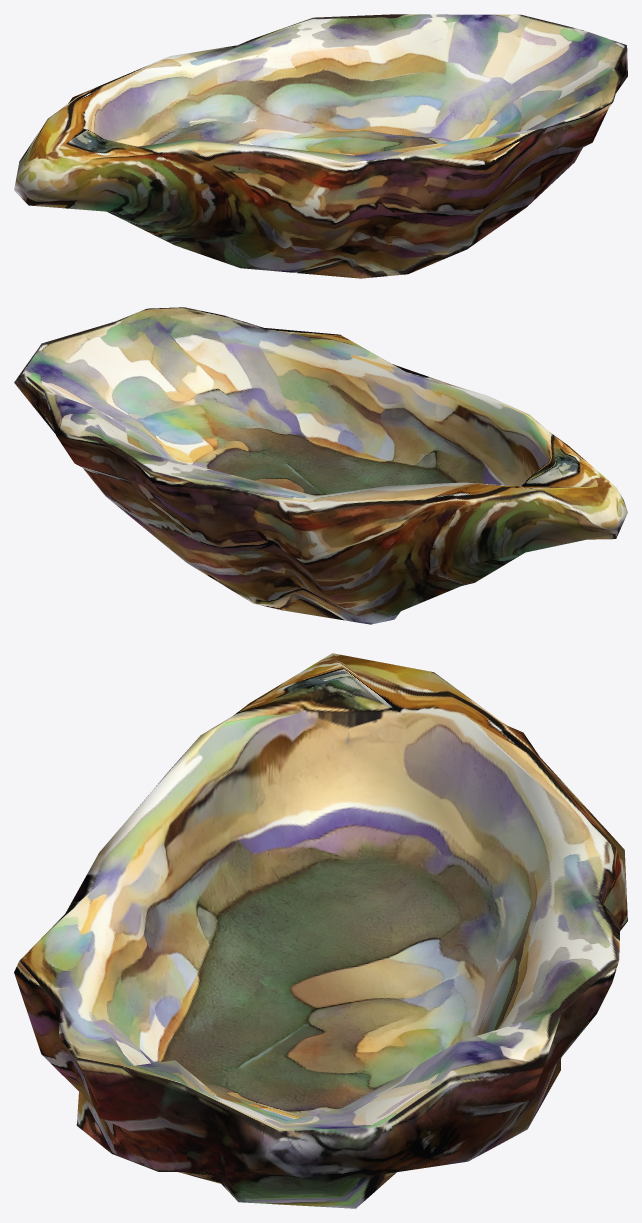
The model's file is SM_OysterShell.glb.
3 renders of one model, top to bottom at view 1: azimuth 30°, elevation 25°; view 2: azimuth 150°, elevation 25°; view 3: azimuth 270°, elevation 25°, orthographic. The views are drawn at different scales.
Parts seen in each view (by area): view 1: Mesh_0; view 2: Mesh_0; view 3: Mesh_0.
Boxes of the visible parts, x1,y1,x2,y2 form: Mesh_0: (14,14,627,278); Mesh_0: (14,307,627,624); Mesh_0: (14,653,627,1208).
Size of the model in its own units: 0.1844 by 0.05 by 0.1024.
1 material, 1 textured.
